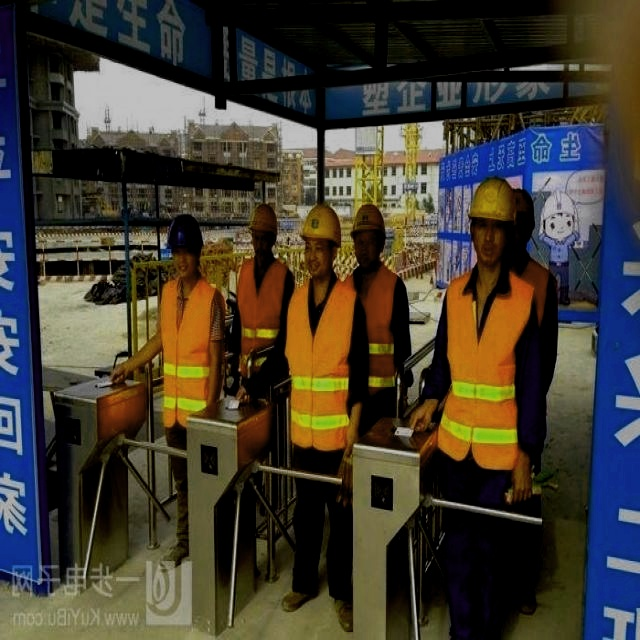Con_Chaleco: (438, 272, 530, 462), (284, 282, 356, 448), (159, 275, 216, 429)
